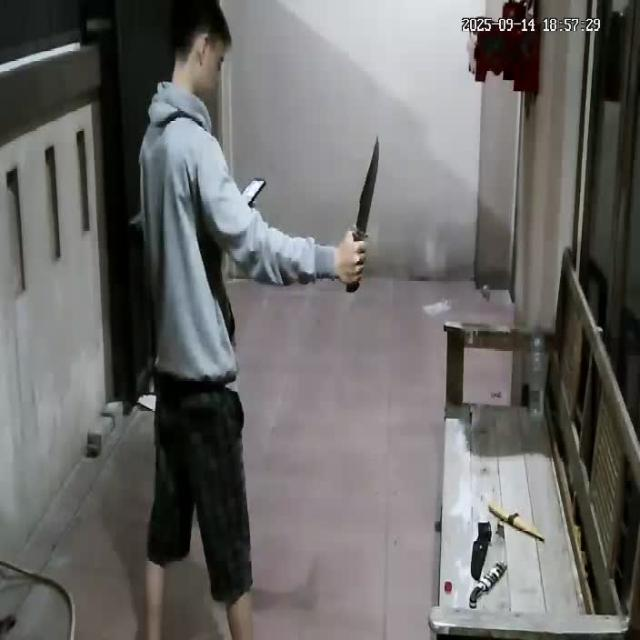senjata_tajam: (352, 134, 381, 238)
